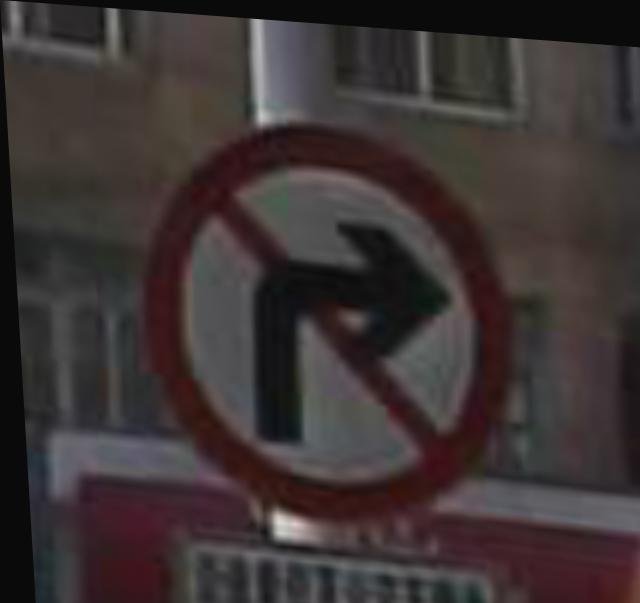not_turn_right: (136, 103, 515, 522)
